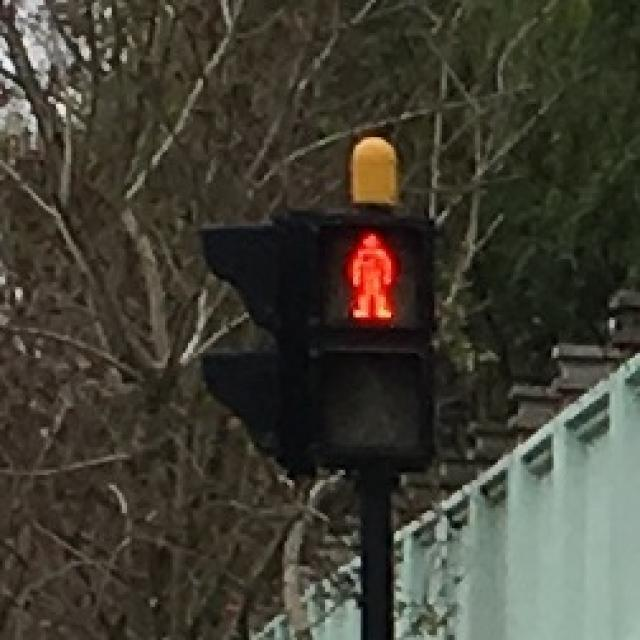red-crossing: (330, 224, 412, 328)
